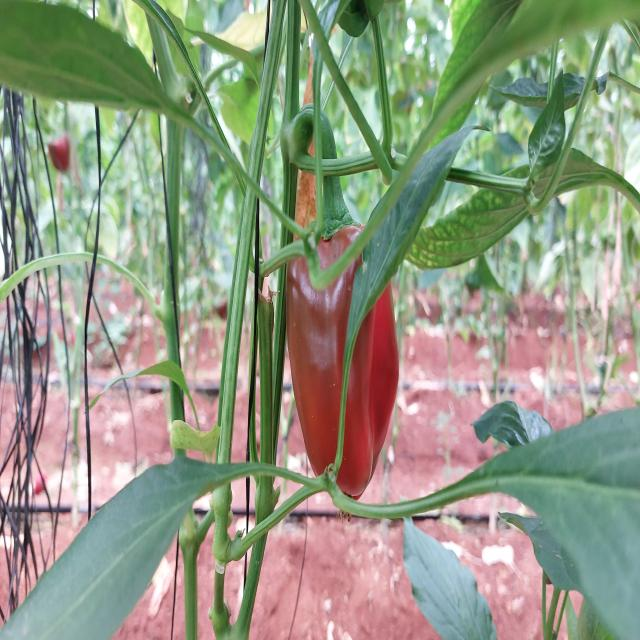Red-Ready-to-Harvest: (288, 206, 401, 502)
